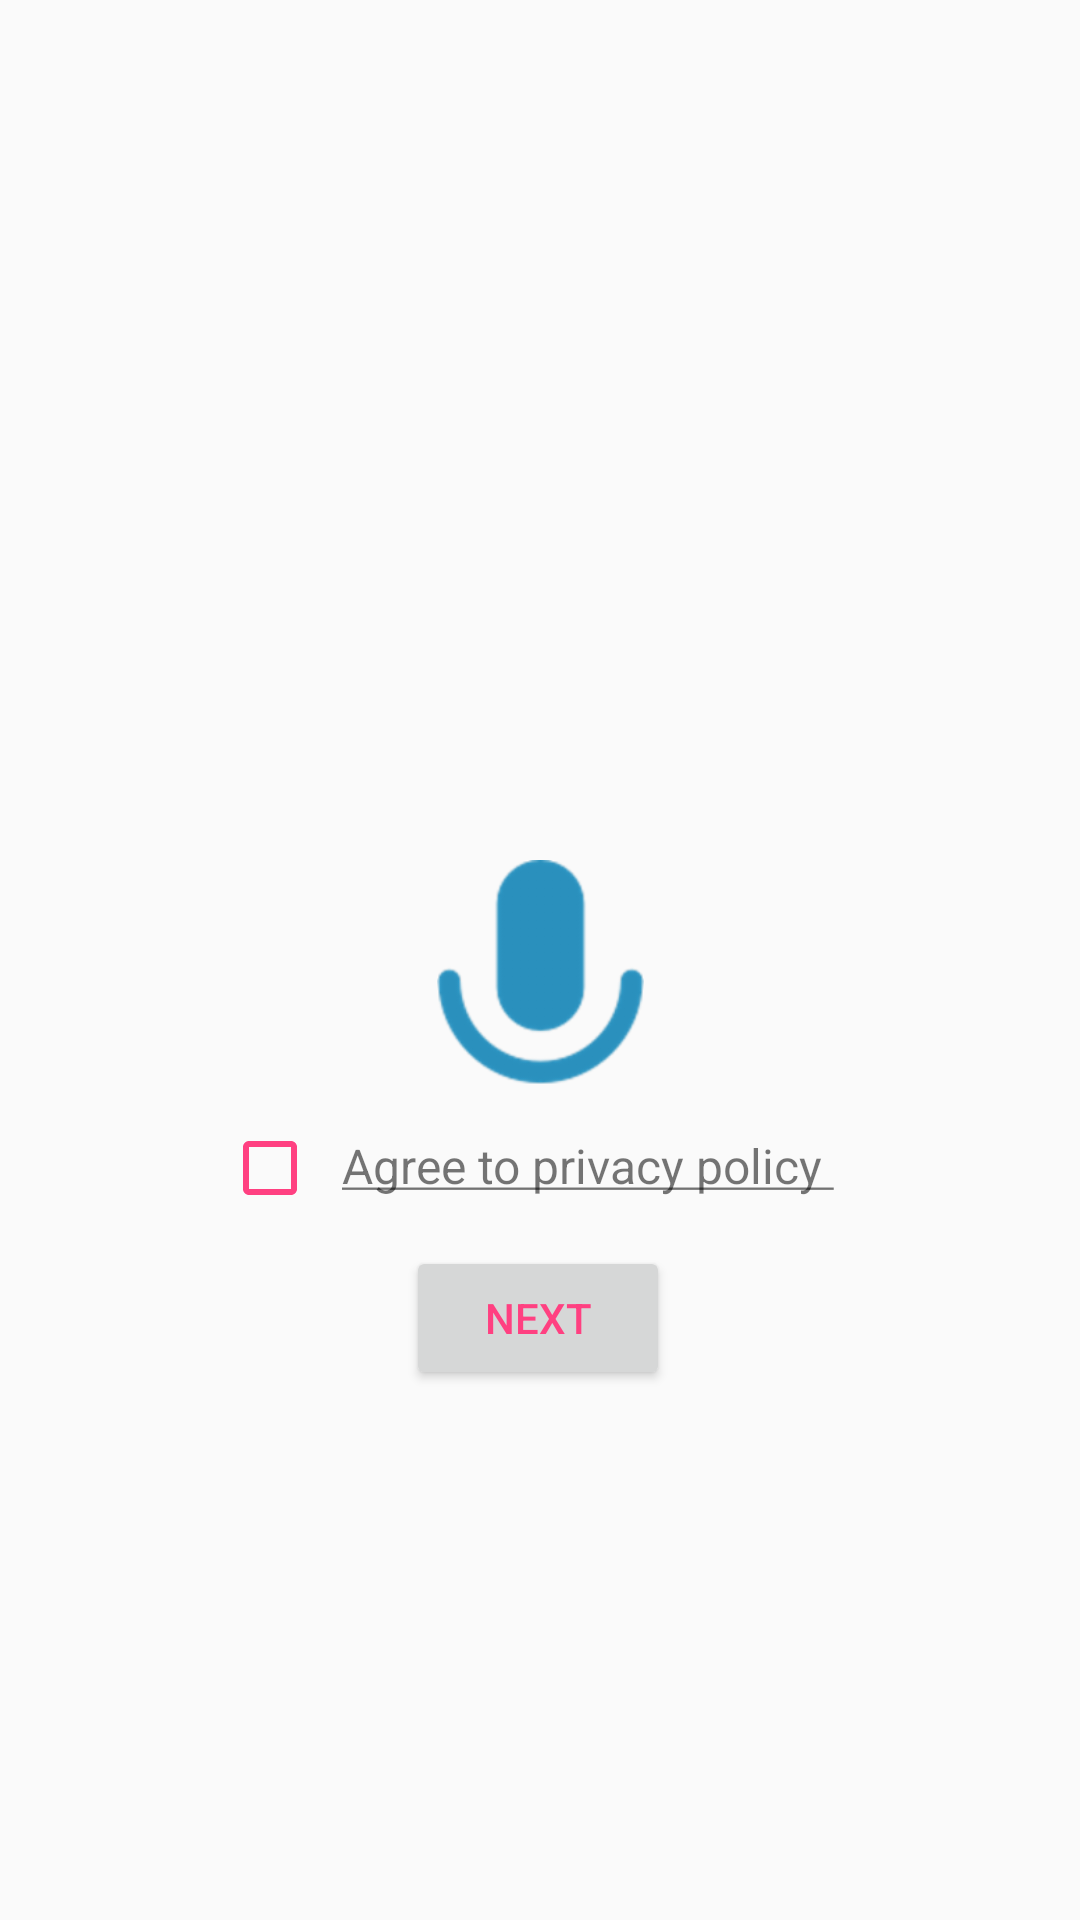

Point at icon controls on the screen. Image size 1080×1920, points as (x,y).
caller id mic: (540,972)
